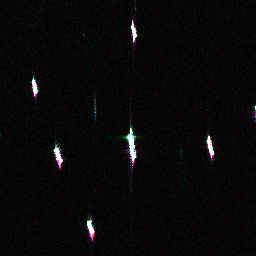ship: (51, 145, 65, 167), (126, 132, 137, 160), (204, 135, 217, 157), (84, 219, 97, 237), (128, 22, 139, 40), (29, 77, 40, 95)
